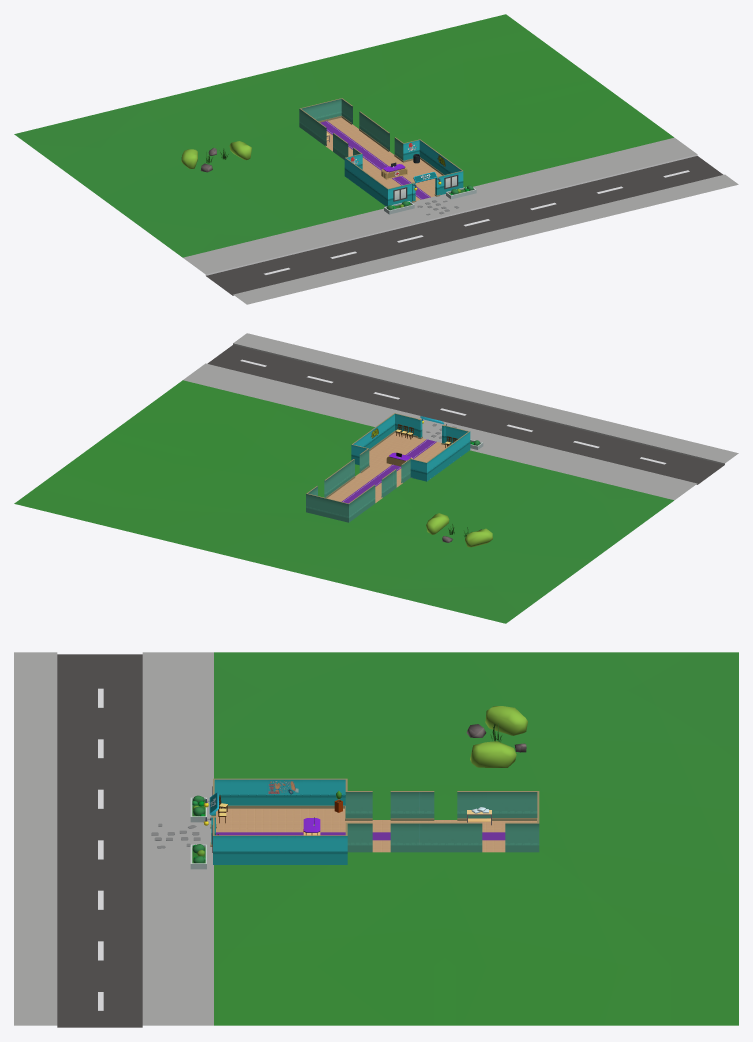
Rendered from Rehab Env Ad2.fbx.
The picture shows the model from 3 angles, top to bottom: view 1: azimuth 30°, elevation 25°; view 2: azimuth 150°, elevation 25°; view 3: azimuth 270°, elevation 25°; orthographic projection. The views are drawn at different scales.
Visible parts, largest first — view 1: Grass, Road, Lobby Wall, Lobby Floor.002, Counter.001, Outer Folliage; view 2: Grass, Road, Lobby Wall, Lobby Floor.002, Counter.001, Outer Folliage; view 3: Grass, Road, Lobby Wall, Lobby Floor.002, Outer Folliage, Counter.001.
Boxes of the visible parts, x1,y1,x2,y2 form: Grass: [14, 14, 673, 257]; Road: [183, 137, 738, 304]; Lobby Wall: [299, 98, 463, 206]; Lobby Floor.002: [325, 117, 442, 200]; Counter.001: [320, 121, 430, 199]; Outer Folliage: [181, 141, 251, 172]; Grass: [14, 380, 673, 623]; Road: [183, 333, 738, 500]; Lobby Wall: [306, 413, 470, 522]; Lobby Floor.002: [327, 432, 448, 502]; Counter.001: [342, 439, 436, 503]; Outer Folliage: [426, 513, 492, 547]; Grass: [214, 652, 738, 1025]; Road: [14, 652, 213, 1027]; Lobby Wall: [210, 778, 539, 864]; Lobby Floor.002: [216, 808, 536, 852]; Outer Folliage: [466, 706, 527, 767]; Counter.001: [216, 817, 505, 840].
Size of the model in its own units: 65.6 by 3.33 by 53.82.
